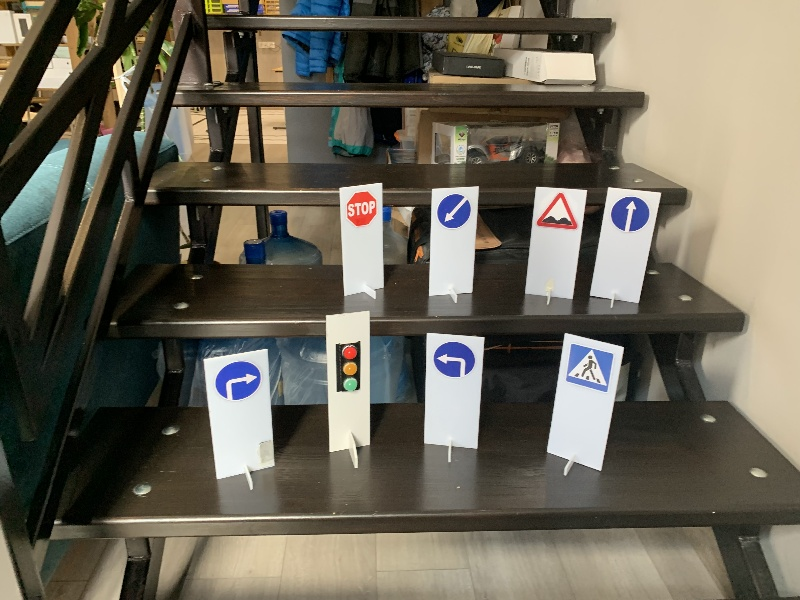Left: (433, 340, 476, 380)
Nerov: (533, 193, 580, 231)
Right: (213, 361, 261, 399)
Stop: (348, 192, 377, 224)
forw: (608, 195, 650, 237)
pesh: (566, 343, 614, 393)
prep: (436, 192, 470, 230)
